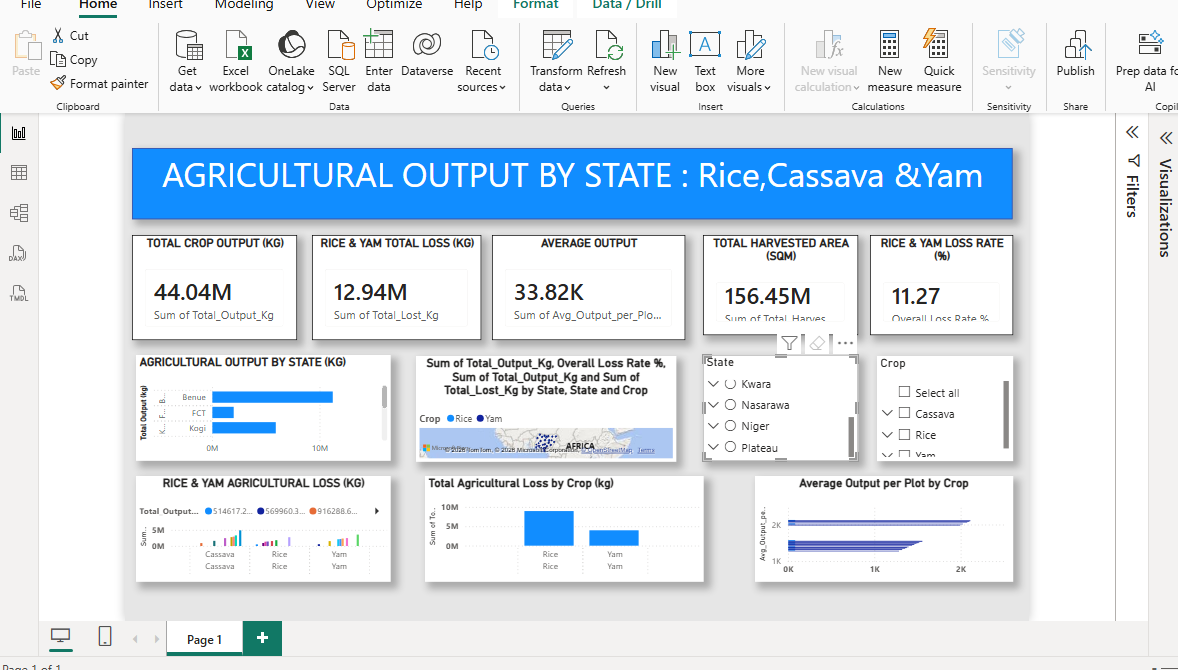

What the dashboard file says about the page in this screenshot:
{"tool":"powerbi","page":{"name":"Page 1","canvas":[1280,720],"ordinal":0},"visuals":[{"type":"textbox","box":[10.1,49,1248.5,100.8],"z":0},{"type":"cardVisual","title":"TOTAL CROP OUTPUT (KG)","fields":{"Data":["Sum(tblCassavaNC.Total_Output_Kg)","Sum(tblCassavaNC.Total_Output_Kg)"]},"box":[9.9,172.9,233.9,148.8],"z":1000},{"type":"cardVisual","title":"RICE & YAM TOTAL LOSS (KG)","fields":{"Data":["Sum(tblRiceYamOutput.Total_Lost_Kg)"]},"box":[265,172.9,239.5,148.8],"z":2000},{"type":"cardVisual","title":"AVERAGE OUTPUT","fields":{"Data":["Sum(tblCassavaNC.Avg_Output_per_Plot_Kg)","Sum(tblCassavaNC.Avg_Output_per_Plot_Kg)"]},"box":[520.2,172.9,273.5,148.8],"z":3000},{"type":"cardVisual","title":"TOTAL HARVESTED AREA (SQM) ","fields":{"Data":["Sum(tblCassavaNC.Total_Harvested_Area_SQM)","Sum(tblCassavaNC.Total_Harvested_Area_SQM)"]},"box":[819.2,172.9,219.7,141.7],"z":4000},{"type":"cardVisual","title":"RICE & YAM LOSS RATE (%)","fields":{"Data":["tblRiceYamOutput.Overall Loss Rate %","tblRiceYamOutput.Overall Loss Rate %"]},"box":[1055.9,172.9,202.7,141.7],"z":5000},{"type":"clusteredBarChart","title":"AGRICULTURAL OUTPUT BY STATE (KG)","fields":{"Category":["tblCassavaNC.State","tblCassavaNC.State"],"Y":["Sum(tblCassavaNC.Total_Output_Kg)","Sum(tblCassavaNC.Total_Output_Kg)"]},"box":[15.6,343,361.4,150.2],"z":6000},{"type":"map","fields":{"Category":["tblRiceYamOutput.State","tblRiceYamOutput.State"],"Series":["tblRiceYamOutput.Crop"],"Size":["Sum(tblRiceYamOutput.Total_Output_Kg)"]},"box":[412.4,344.4,368.5,150.2],"z":7000},{"type":"clusteredColumnChart","title":"RICE & YAM AGRICULTURAL LOSS (KG)","fields":{"Category":["tblCassavaNC.Crop","tblCassavaNC.Crop"],"Y":["Sum(tblCassavaNC.Total_Output_Kg)"],"Series":["tblCassavaNC.Total_Output_Kg"]},"box":[15.6,514.5,361.4,150.2],"z":8000},{"type":"clusteredColumnChart","title":" Total Agricultural Loss by Crop (kg)","fields":{"Category":["tblALLcropoutput.Crop","tblALLcropoutput.Crop"],"Y":["Sum(tblALLcropoutput.Total_Lost_Kg)"]},"box":[425.2,514.5,394.6,149.8],"z":9000},{"type":"listSlicer","fields":{"Values":["tblCassavaNC.State","tblCassavaNC.State"]},"box":[819.2,343,219.7,150.2],"z":10000},{"type":"listSlicer","fields":{"Values":["tblCassavaNC.Crop","tblCassavaNC.Crop"]},"box":[1065.8,344.4,192.8,148.8],"z":11000},{"type":"clusteredBarChart","title":"Average Output per Plot by Crop","fields":{"Y":["CountNonNull(tblALLcropoutput.State)","Sum(tblCassavaNC.Avg_Output_per_Plot_Kg)"],"Category":["tblCassavaNC.Avg_Output_per_Plot_Kg"]},"box":[892.9,514.5,365.8,149.8],"z":12000}]}

Visuals, with their boxes on the page's 1280x720 design canvas (x1, y1, x2, y2). These are canvas units, not pixel positions in the 1178x670 screenshot, which may show the page scaled, cropped or inside an application window:
textbox: [10, 49, 1259, 150]
"TOTAL CROP OUTPUT (KG)" cardVisual: [10, 173, 244, 322]
"RICE & YAM TOTAL LOSS (KG)" cardVisual: [265, 173, 504, 322]
"AVERAGE OUTPUT" cardVisual: [520, 173, 794, 322]
"TOTAL HARVESTED AREA (SQM) " cardVisual: [819, 173, 1039, 315]
"RICE & YAM LOSS RATE (%)" cardVisual: [1056, 173, 1259, 315]
"AGRICULTURAL OUTPUT BY STATE (KG)" clusteredBarChart: [16, 343, 377, 493]
map - tblRiceYamOutput.State x tblRiceYamOutput.State: [412, 344, 781, 495]
"RICE & YAM AGRICULTURAL LOSS (KG)" clusteredColumnChart: [16, 514, 377, 665]
" Total Agricultural Loss by Crop (kg)" clusteredColumnChart: [425, 514, 820, 664]
listSlicer - tblCassavaNC.State x tblCassavaNC.State: [819, 343, 1039, 493]
listSlicer - tblCassavaNC.Crop x tblCassavaNC.Crop: [1066, 344, 1259, 493]
"Average Output per Plot by Crop" clusteredBarChart: [893, 514, 1259, 664]
